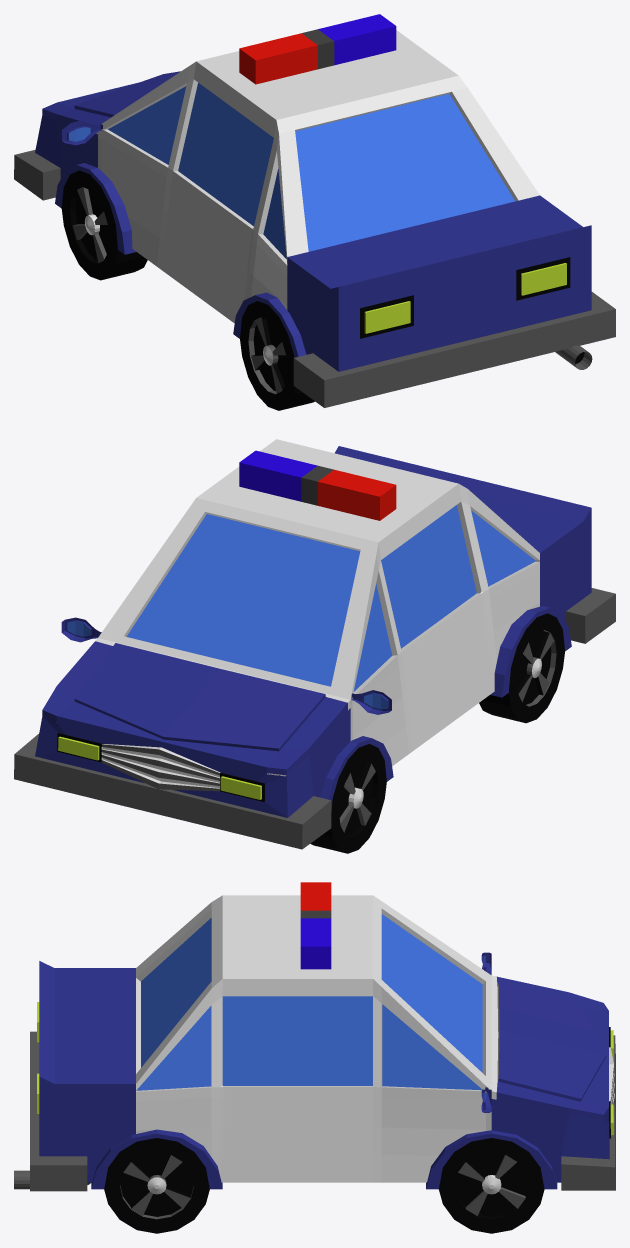
File: police_car.fbx
3 renders of one model, top to bottom at view 1: azimuth 30°, elevation 25°; view 2: azimuth 150°, elevation 25°; view 3: azimuth 270°, elevation 25°, orthographic. The views are drawn at different scales.
Visible parts, largest first — view 1: PoliceCar; view 2: PoliceCar; view 3: PoliceCar.
Boxes of the visible parts, x1,y1,x2,y2 form: PoliceCar: (14, 14, 615, 410); PoliceCar: (14, 439, 615, 853); PoliceCar: (14, 882, 615, 1233).
Size of the model in its own units: 73.65 by 59.15 by 125.
